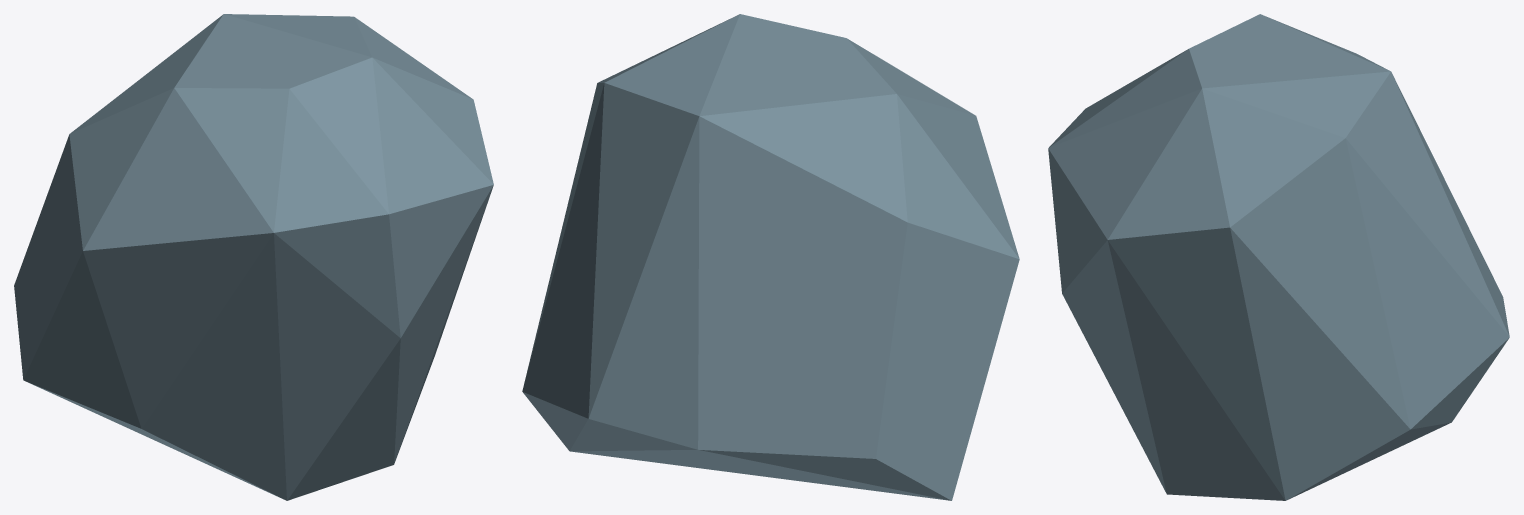
Rendered from Rock1.fbx.
3 views of the same model, side by side, from view 1: azimuth 30°, elevation 25°; view 2: azimuth 150°, elevation 25°; view 3: azimuth 270°, elevation 25° (orthographic). The views are drawn at different scales.
Parts seen in each view (by area): view 1: Rock1; view 2: Rock1; view 3: Rock1.
Boxes of the visible parts, x1,y1,x2,y2 form: Rock1: [14, 14, 493, 500]; Rock1: [522, 14, 1019, 500]; Rock1: [1048, 14, 1509, 500].
Size of the model in its own units: 70.52 by 70.53 by 71.66.
